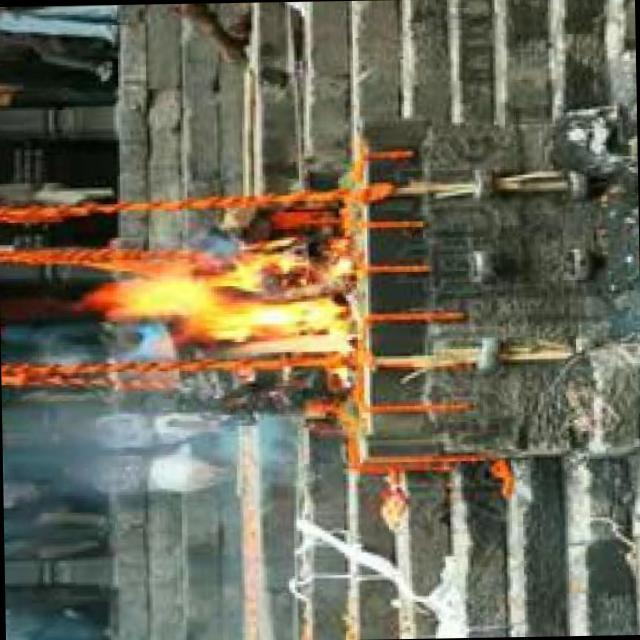Fire: (94, 255, 360, 371)
